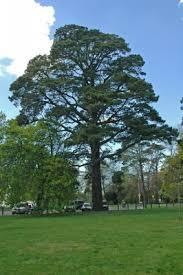tree: (6, 21, 176, 212)
